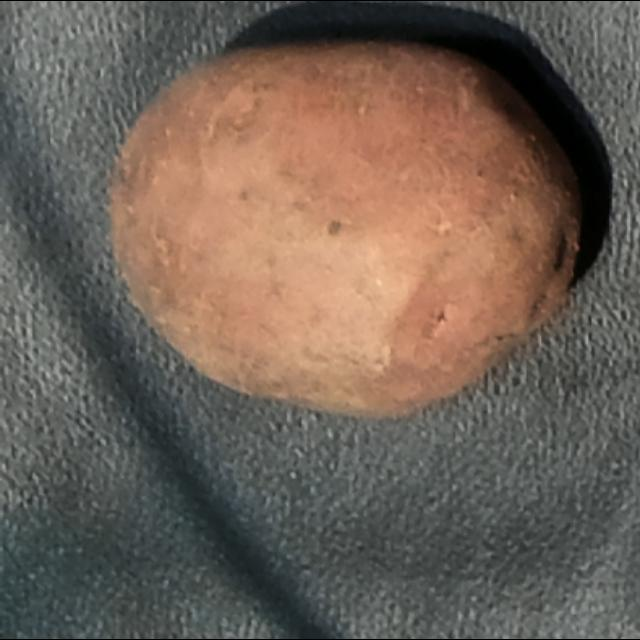Diseased-fungal potato: (96, 22, 594, 428)
